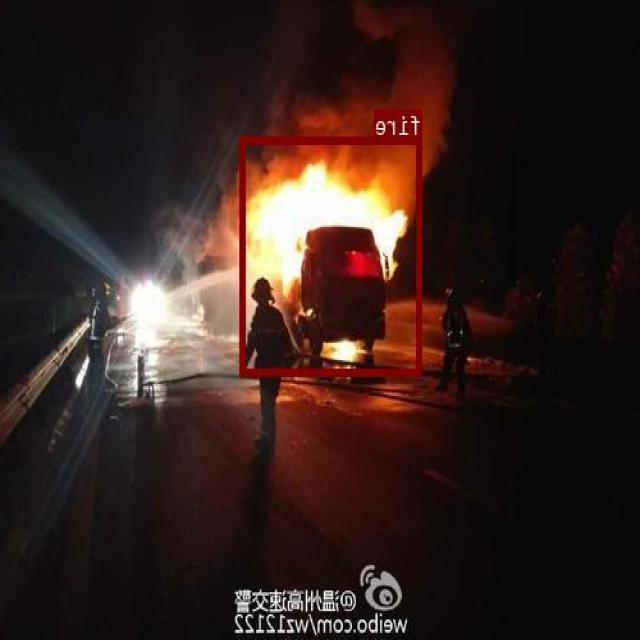fire: (242, 136, 423, 374)
